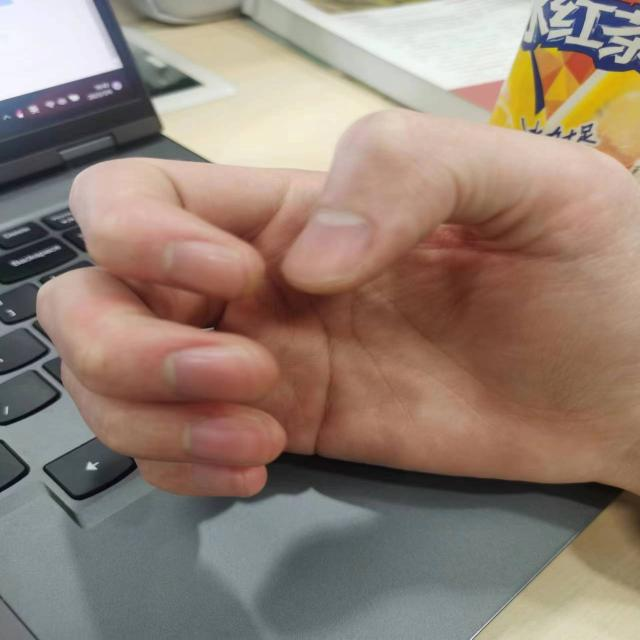Nail: (279, 209, 374, 283), (162, 345, 260, 401), (160, 239, 248, 299), (181, 416, 273, 463), (189, 465, 246, 495)
